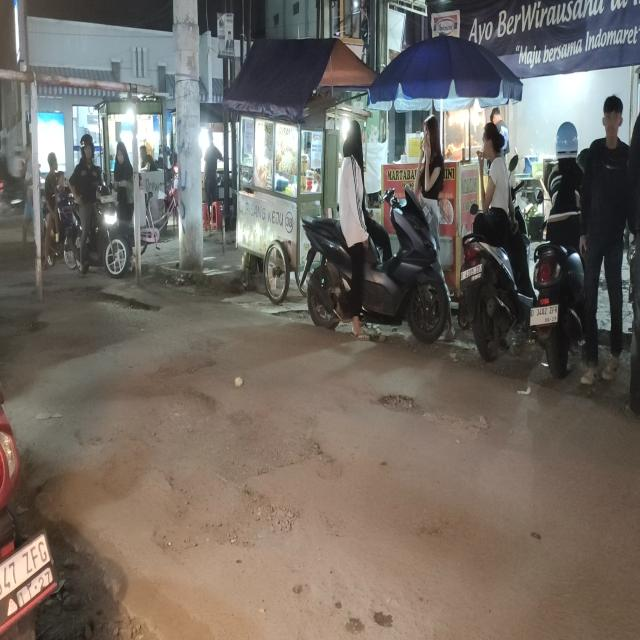helmet: (556, 122, 577, 158), (80, 134, 95, 160)
no-helmet: (343, 120, 365, 158), (483, 122, 504, 158), (48, 150, 58, 171), (57, 171, 66, 185)
